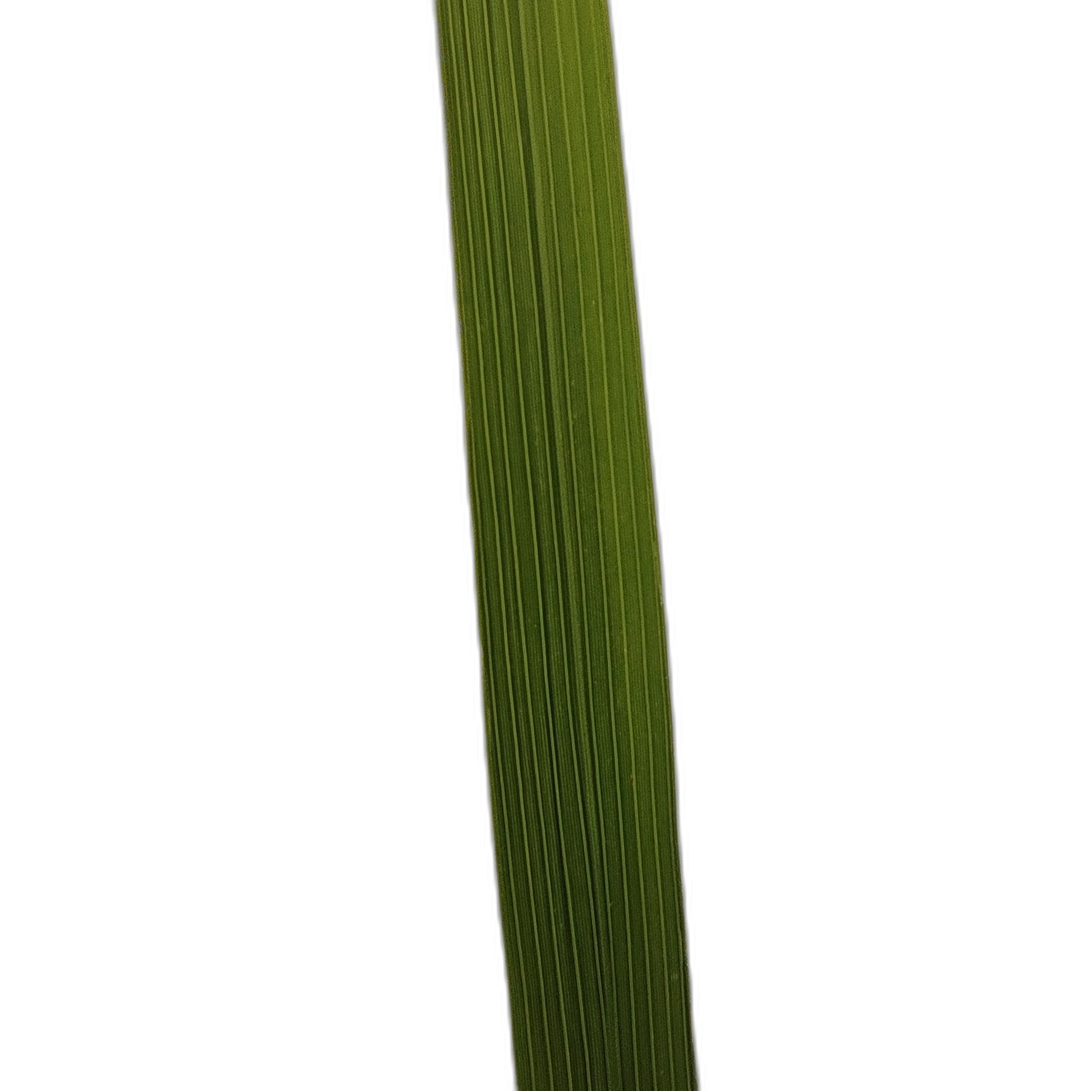Healthy: (436, 0, 696, 1090)
